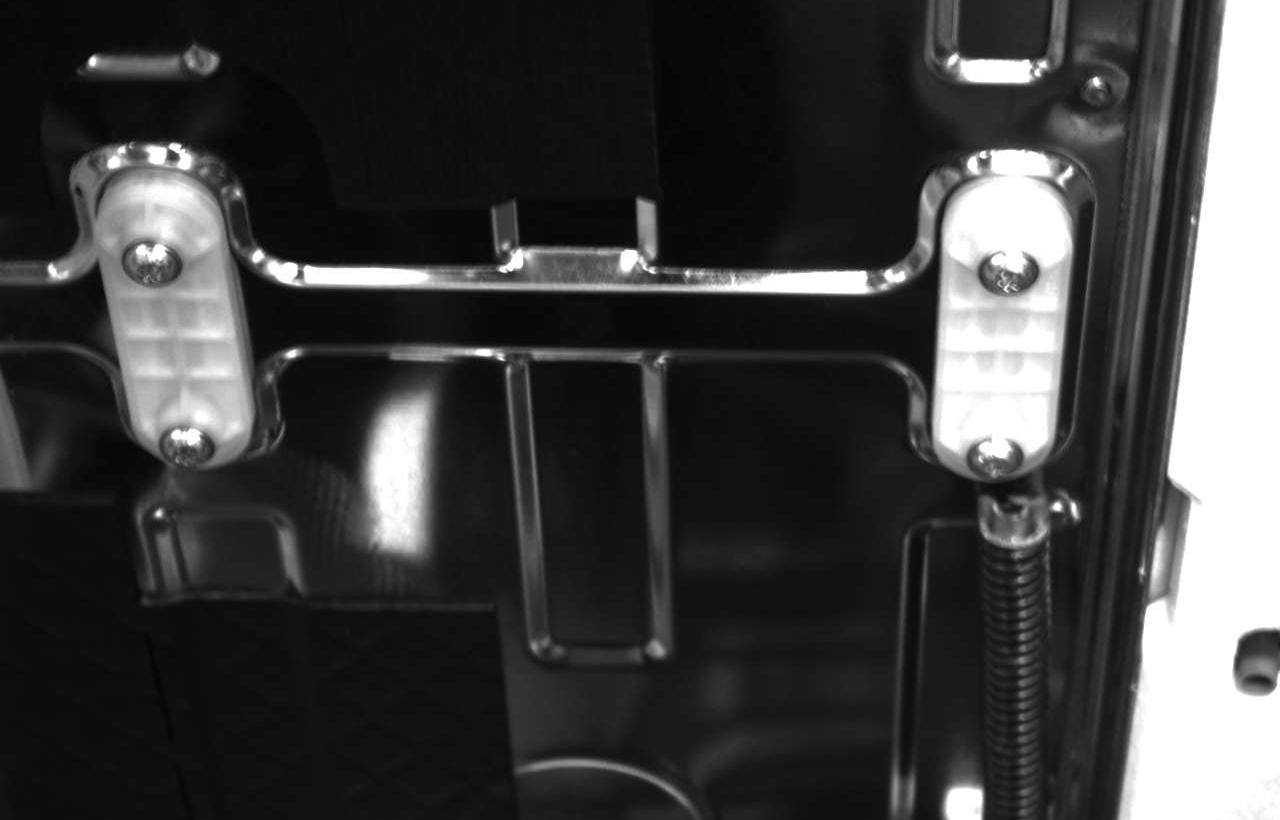vida-ok: (114, 229, 186, 297), (981, 242, 1049, 309), (964, 427, 1030, 485), (156, 417, 221, 475)
